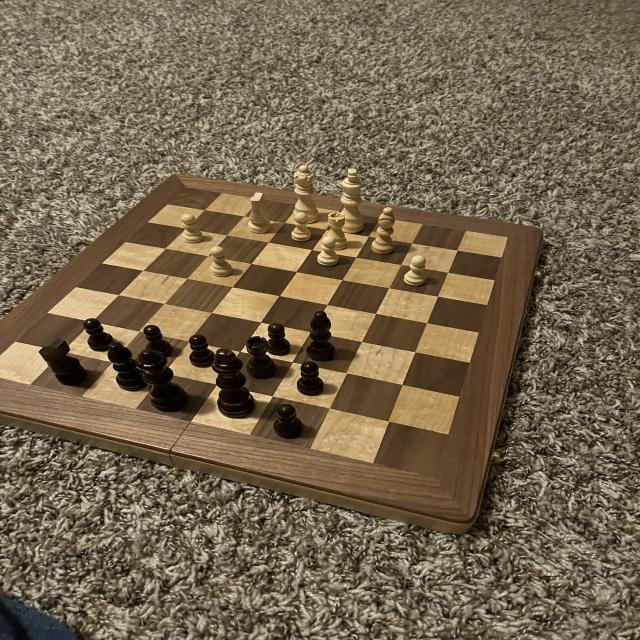bishop: (104, 338, 151, 392), (304, 310, 335, 364)
black-bishop: (211, 343, 257, 422)
black-king: (38, 335, 93, 389)
black-knight: (268, 399, 310, 448), (139, 321, 174, 360), (186, 328, 217, 370), (81, 314, 115, 352), (296, 358, 328, 398), (264, 320, 294, 358)
black-pawn: (136, 346, 193, 414)
black-queen: (244, 331, 278, 383)
black-rook: (368, 204, 398, 258)
white-bishop: (336, 164, 369, 235)
white-king: (243, 191, 275, 238)
white-knight: (315, 235, 346, 269), (402, 253, 432, 288), (178, 213, 207, 245), (208, 245, 235, 277), (290, 210, 314, 244)
white-pawn: (289, 162, 325, 226)
white-queen: (324, 211, 353, 254)
